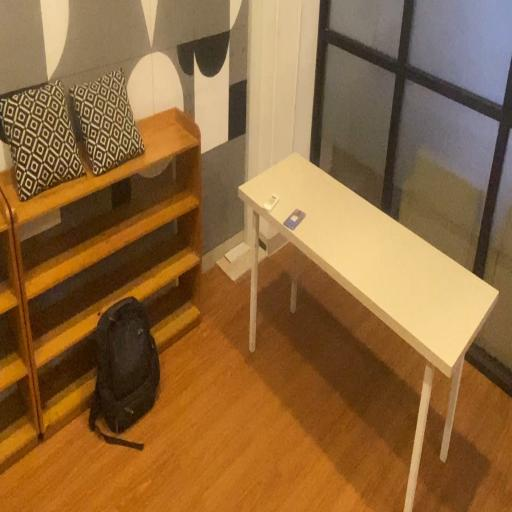bantal: (0, 75, 86, 202), (70, 65, 148, 177)
meja: (236, 148, 500, 507)
remote AC: (281, 202, 307, 234), (261, 191, 282, 214)
tas ransel: (86, 293, 166, 454)
